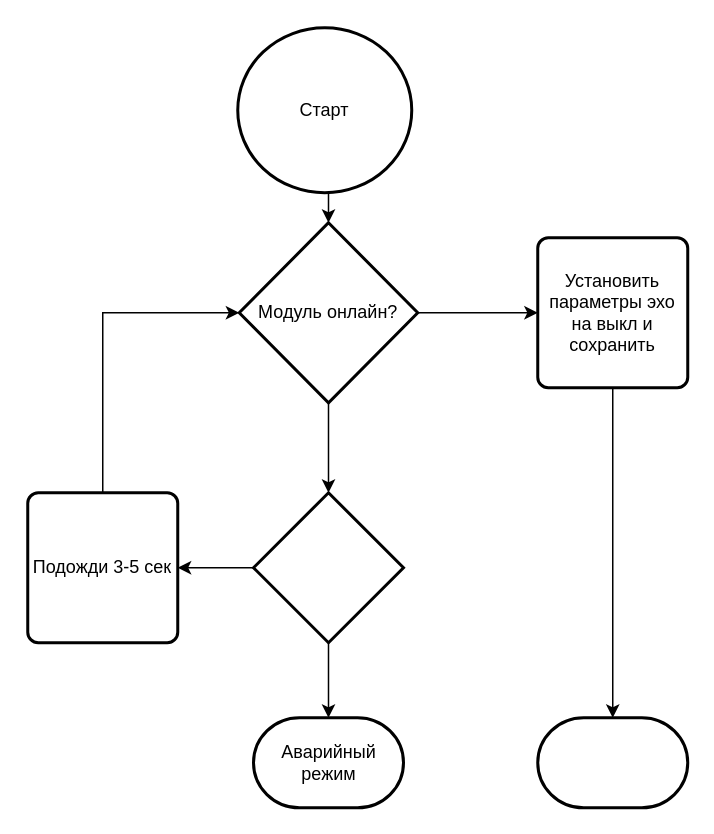
This 714x834 diagram has some shape labels left out. The shapes that lost their labels are listed below. From the top down, each one's box as (x1, y1, x2, y2) in pixels, then its label:
(251, 490, 404, 644): Первый раз?
(536, 716, 688, 808): Нормальный режим
